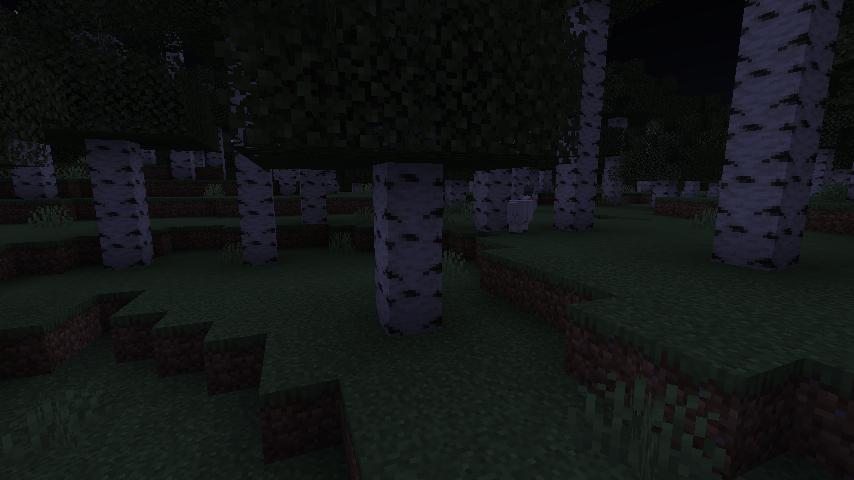goat: (506, 185, 540, 235)
